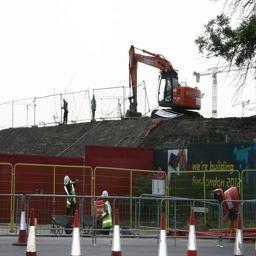hat: (96, 189, 116, 208), (210, 184, 227, 206), (61, 170, 75, 195)
vest: (225, 185, 246, 220), (98, 201, 118, 237), (61, 185, 83, 212)
